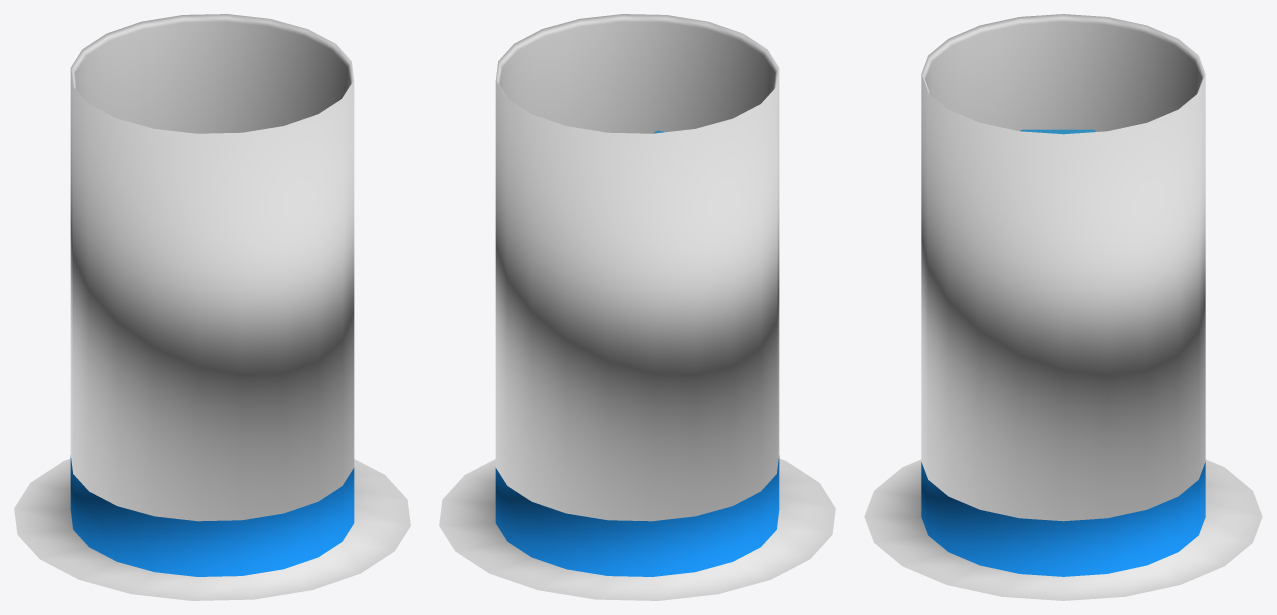
Rendered from power_up.fbx.
3 renders of one model, left to right at view 1: azimuth 30°, elevation 25°; view 2: azimuth 150°, elevation 25°; view 3: azimuth 270°, elevation 25°, orthographic.
Visible parts, largest first — view 1: Trans, Cylinder.002; view 2: Trans, Cylinder.002; view 3: Trans, Cylinder.002.
Part boxes in pixels (x1=…): Trans: x1=70, y1=14, x2=354, y2=521; Cylinder.002: x1=14, y1=455, x2=410, y2=600; Trans: x1=495, y1=14, x2=779, y2=521; Cylinder.002: x1=439, y1=455, x2=835, y2=600; Trans: x1=921, y1=14, x2=1205, y2=521; Cylinder.002: x1=864, y1=459, x2=1262, y2=600.
Bounding box in the file's own units: 396 × 486 × 396.
3 materials, 1 textured.
